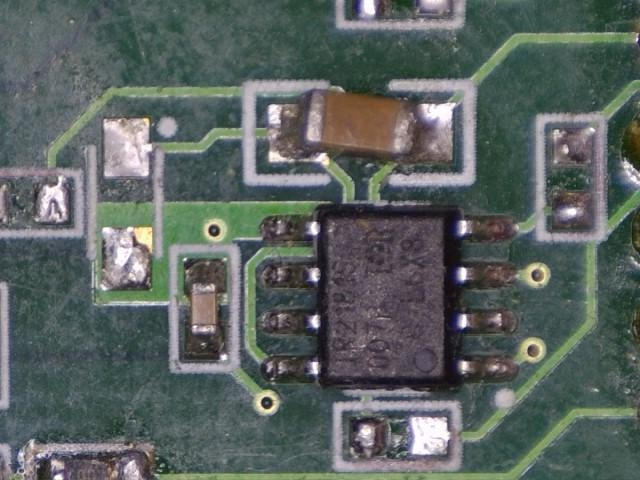pcb_defect: (266, 89, 455, 165)
